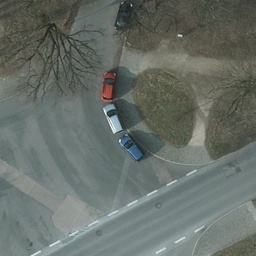car: (101, 105, 124, 133), (118, 133, 141, 160), (101, 66, 118, 100), (114, 1, 132, 31)
